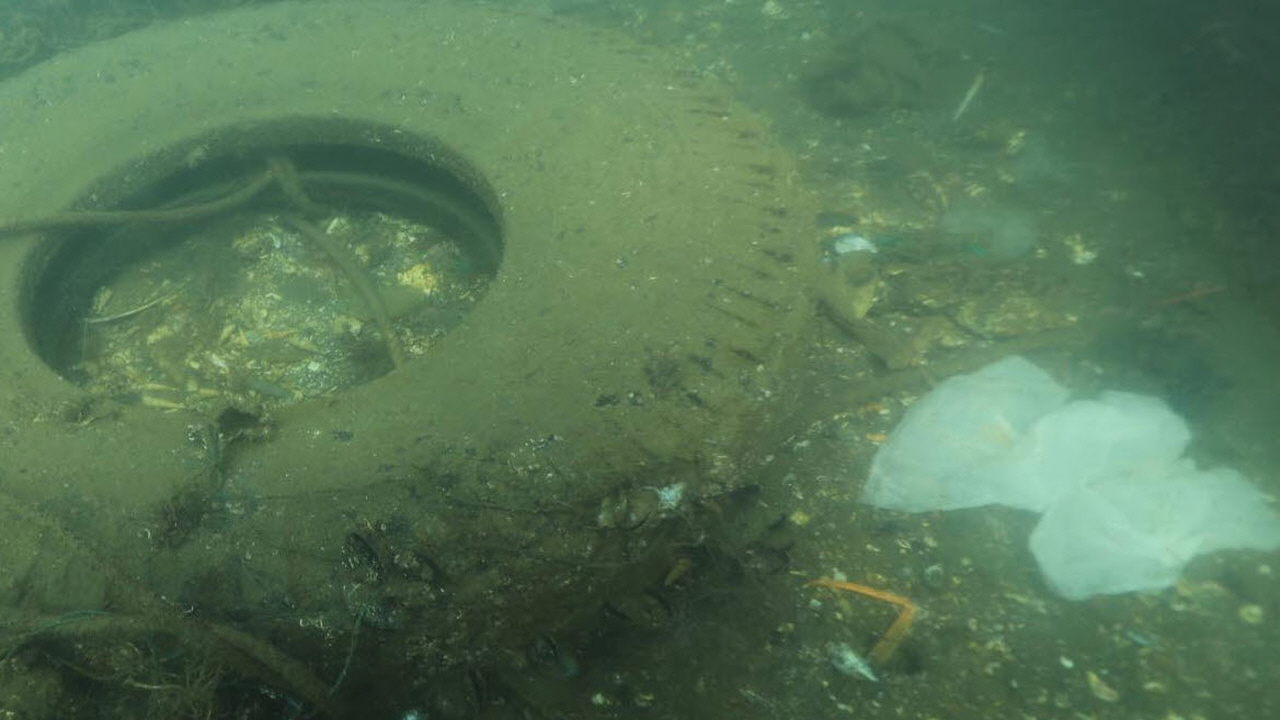rope: (0, 151, 407, 377)
tire: (0, 0, 811, 693)
